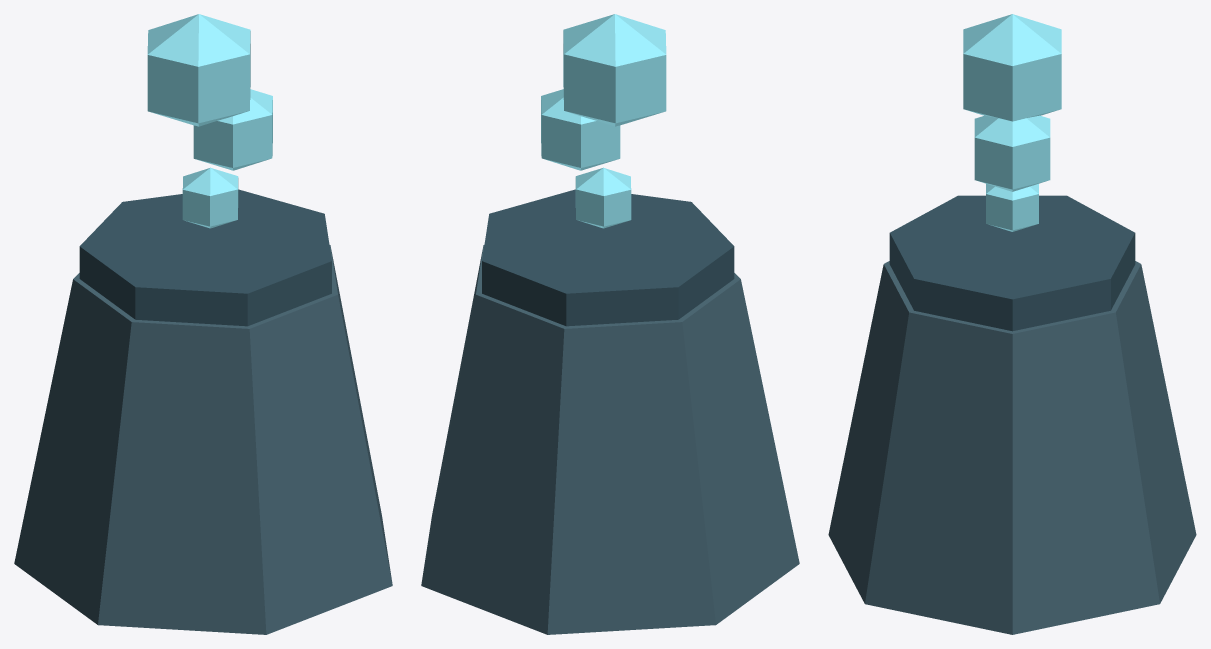
The model's file is env_r15_bubble_vent.glb.
The picture shows the model from 3 angles, left to right: view 1: azimuth 30°, elevation 25°; view 2: azimuth 150°, elevation 25°; view 3: azimuth 270°, elevation 25°; orthographic projection. The views are drawn at different scales.
Parts seen in each view (by area): view 1: env_r15_bubble_vent; view 2: env_r15_bubble_vent; view 3: env_r15_bubble_vent.
Boxes of the visible parts, x1=… form: env_r15_bubble_vent: x1=14, y1=14, x2=392, y2=634; env_r15_bubble_vent: x1=421, y1=14, x2=799, y2=634; env_r15_bubble_vent: x1=828, y1=14, x2=1196, y2=634.
Bounding box in the file's own units: 1.5 × 2.4 × 1.5.
Materials: 1 (1 with a texture image).
